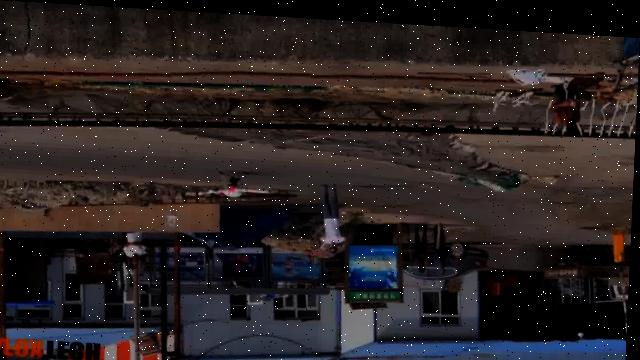drone: (197, 166, 277, 200)
